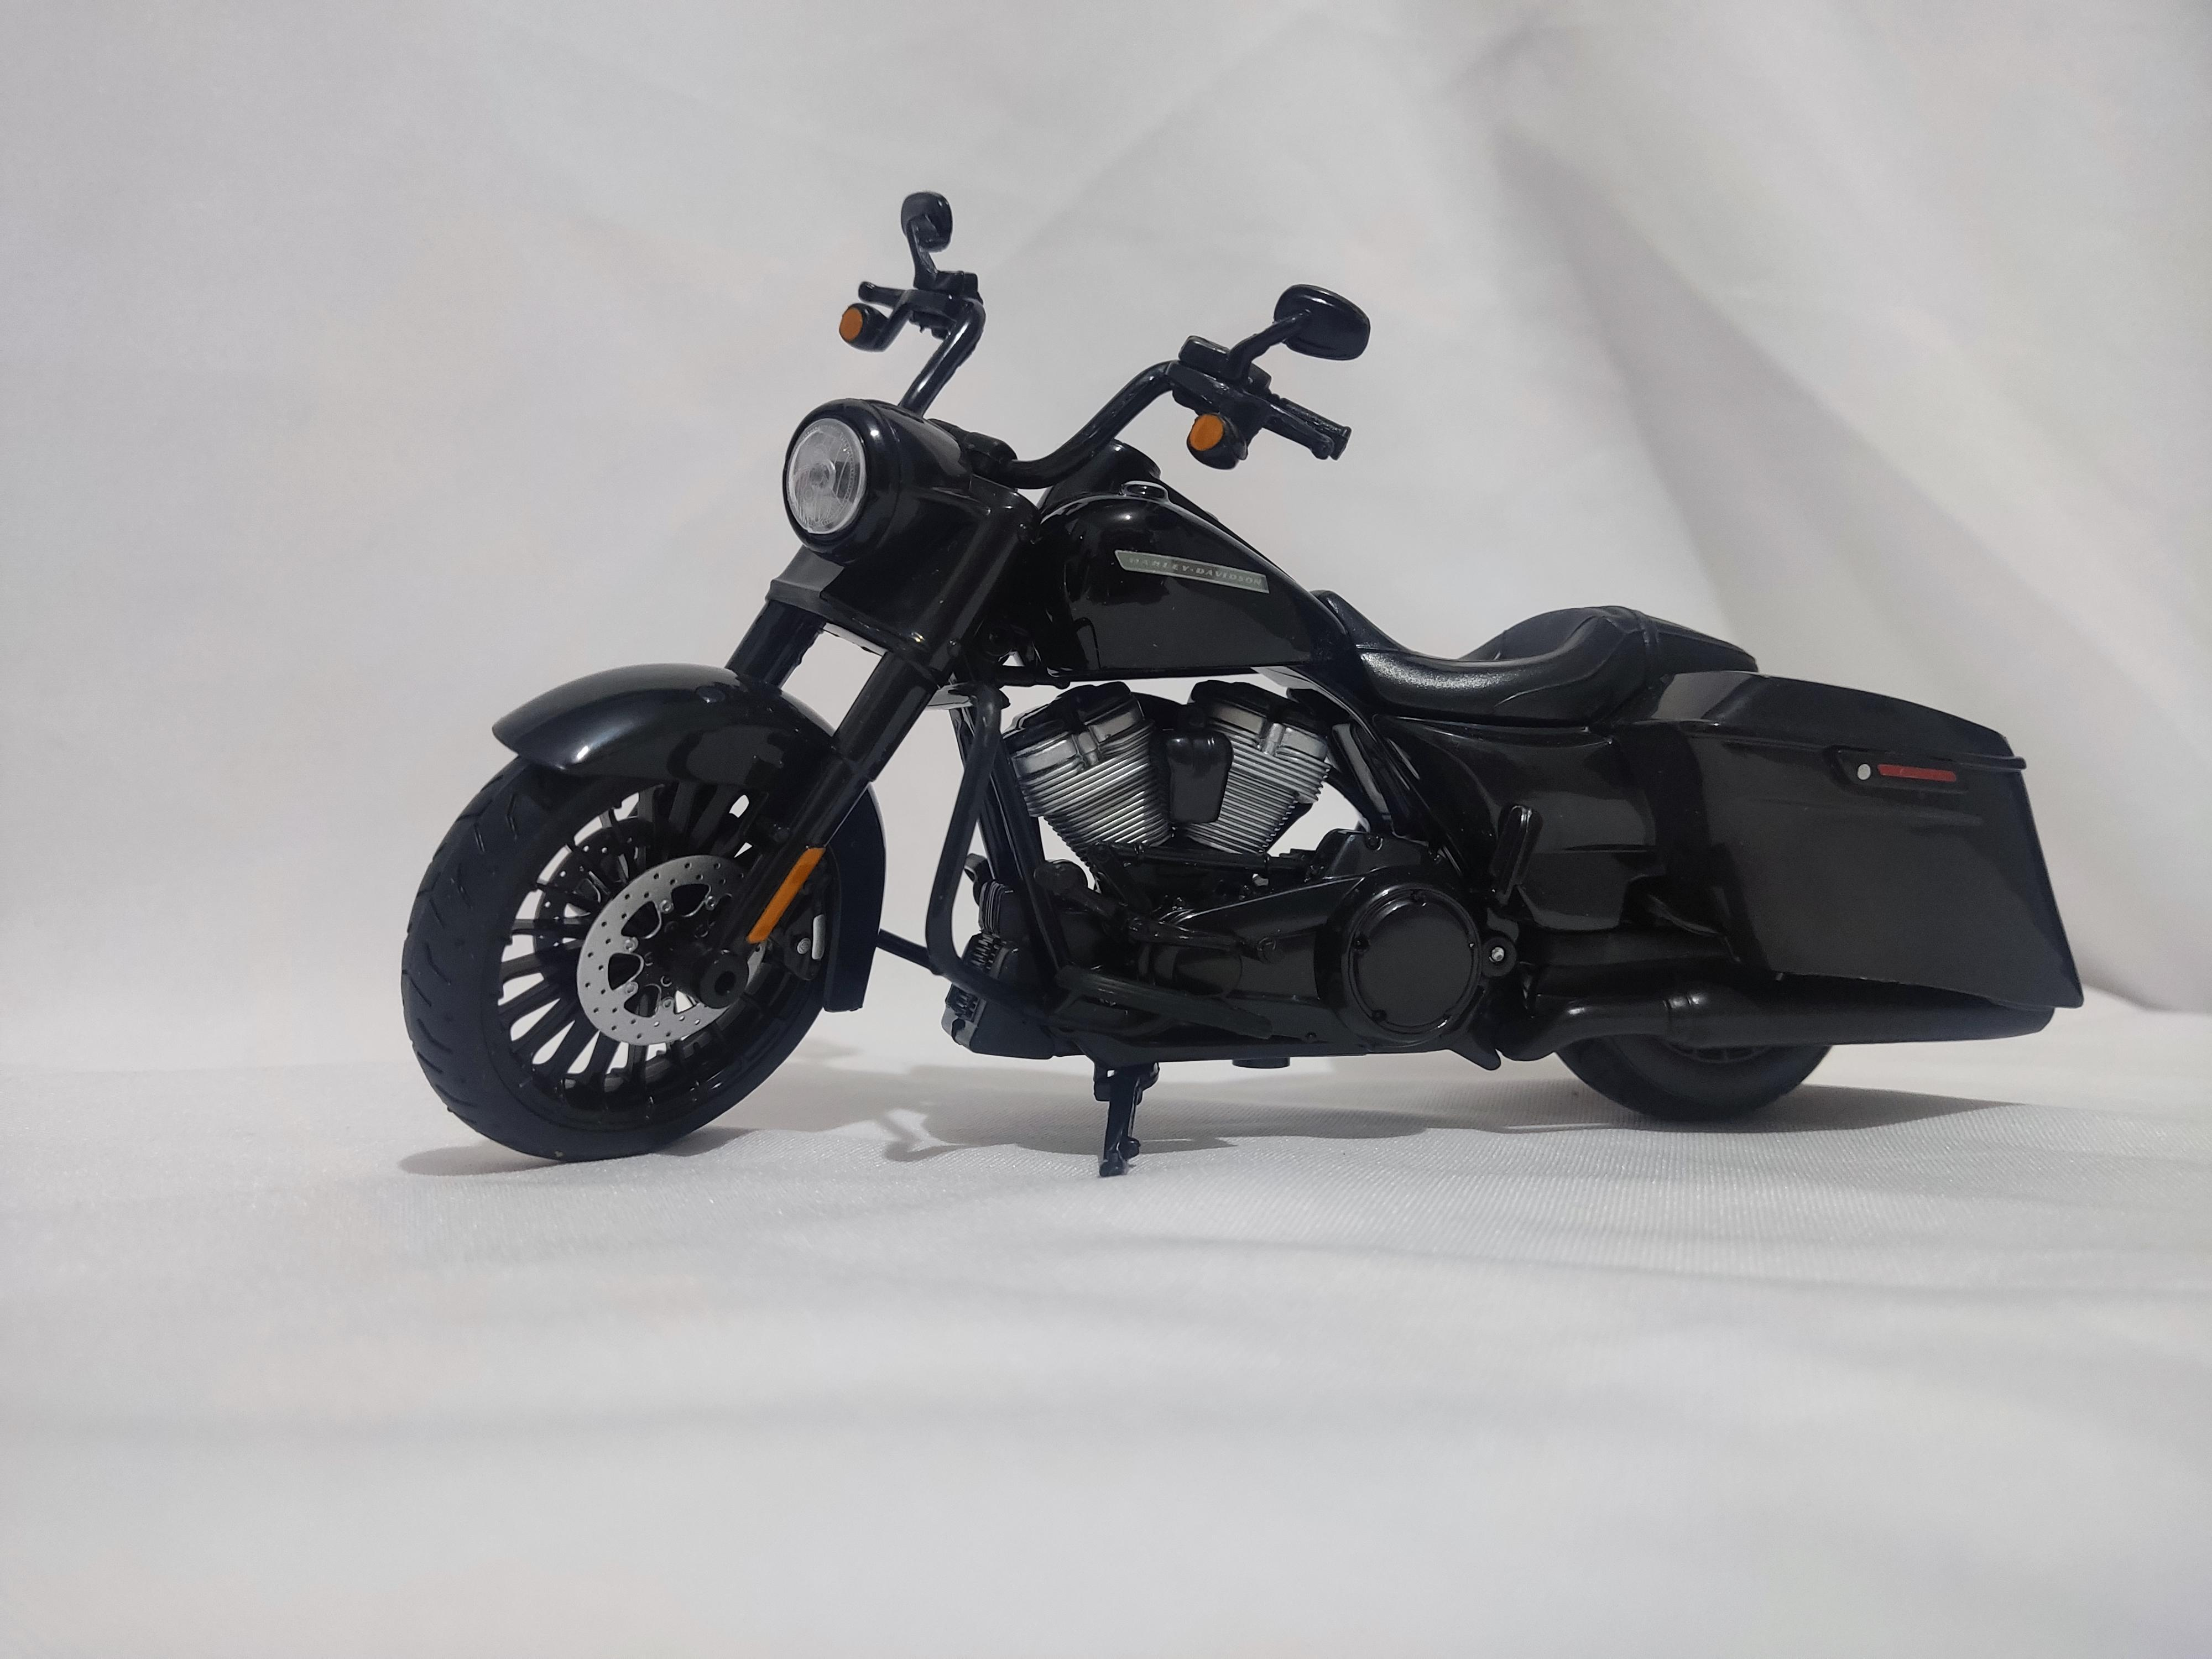Motorcycle: (376, 162, 2130, 1213)
